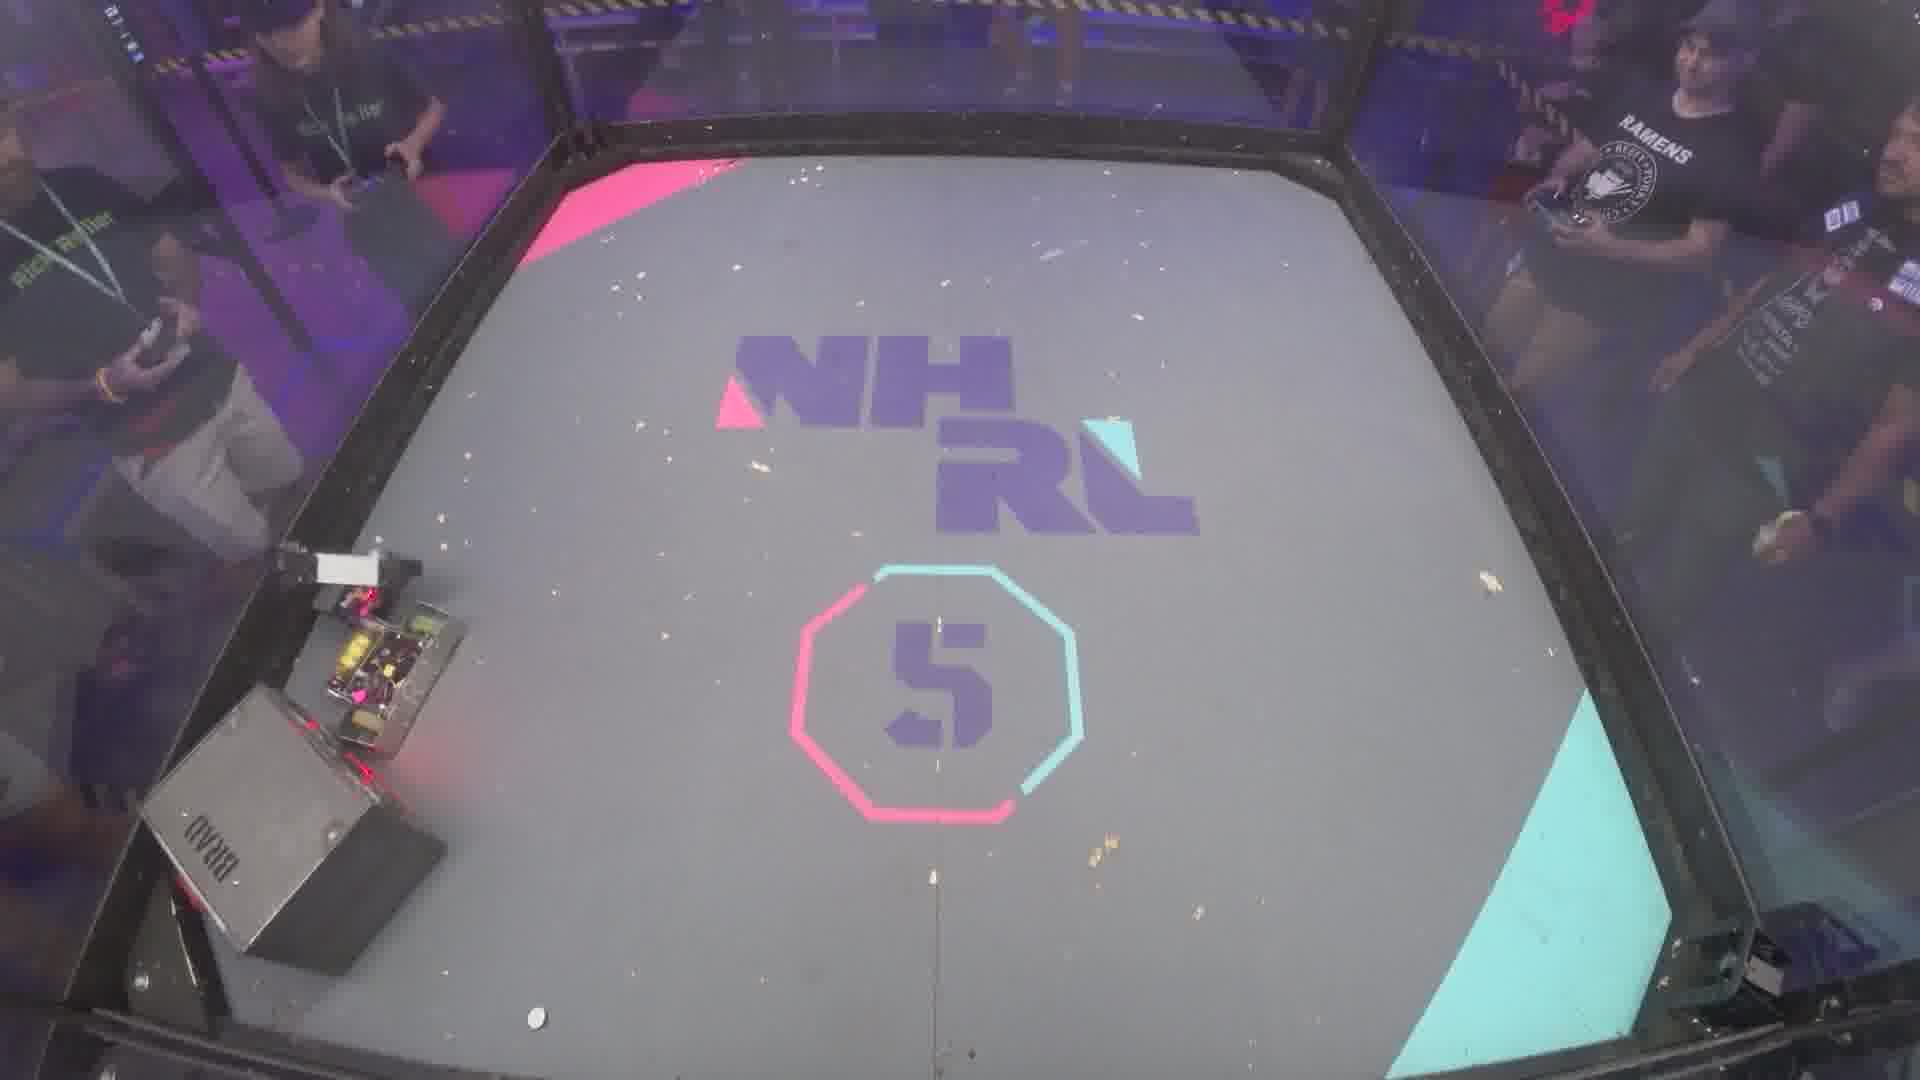combatbot: (326, 600, 463, 762), (272, 538, 414, 609)
housebot: (140, 679, 451, 975)
